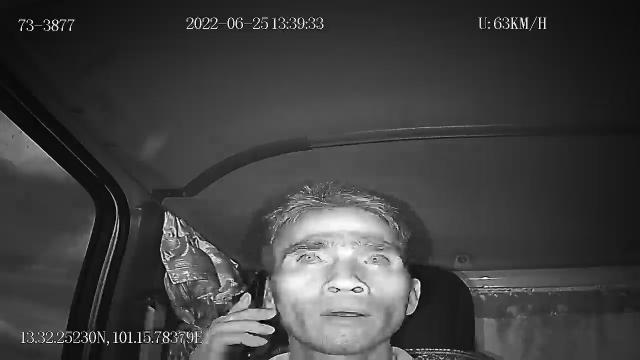PhoneUse: (227, 267, 267, 360)
SafeDriving: (358, 245, 398, 269), (292, 246, 332, 268)
